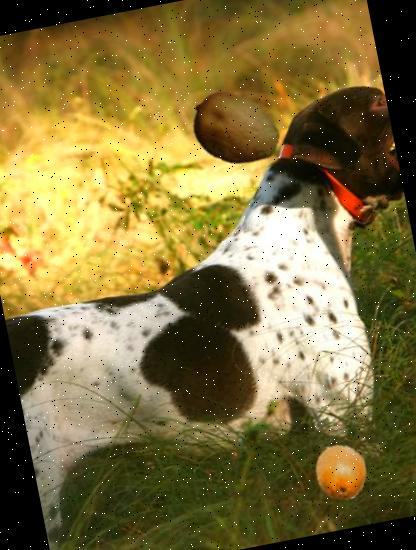Kiwi: (307, 438, 375, 506)
Papaya: (182, 76, 289, 183)
